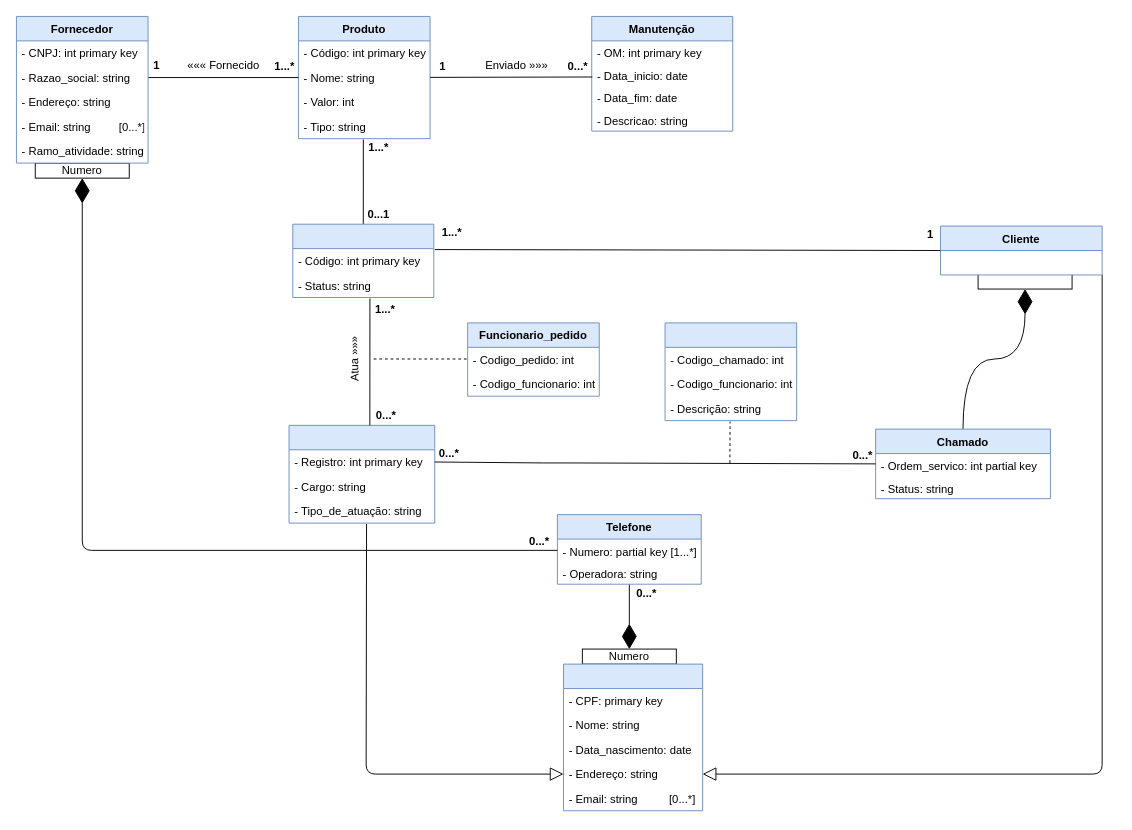
The diagram is 1132 pixels wide and 830 high, and some of its shapes have lost their labels. Each missing label, with the box of its shape:
Funcionario_chamado: (664, 322, 797, 421)
Funcionário: (288, 424, 435, 523)
Ordem_servico: (977, 273, 1072, 289)
Pedido: (292, 223, 434, 298)
Pessoa: (563, 663, 703, 811)
